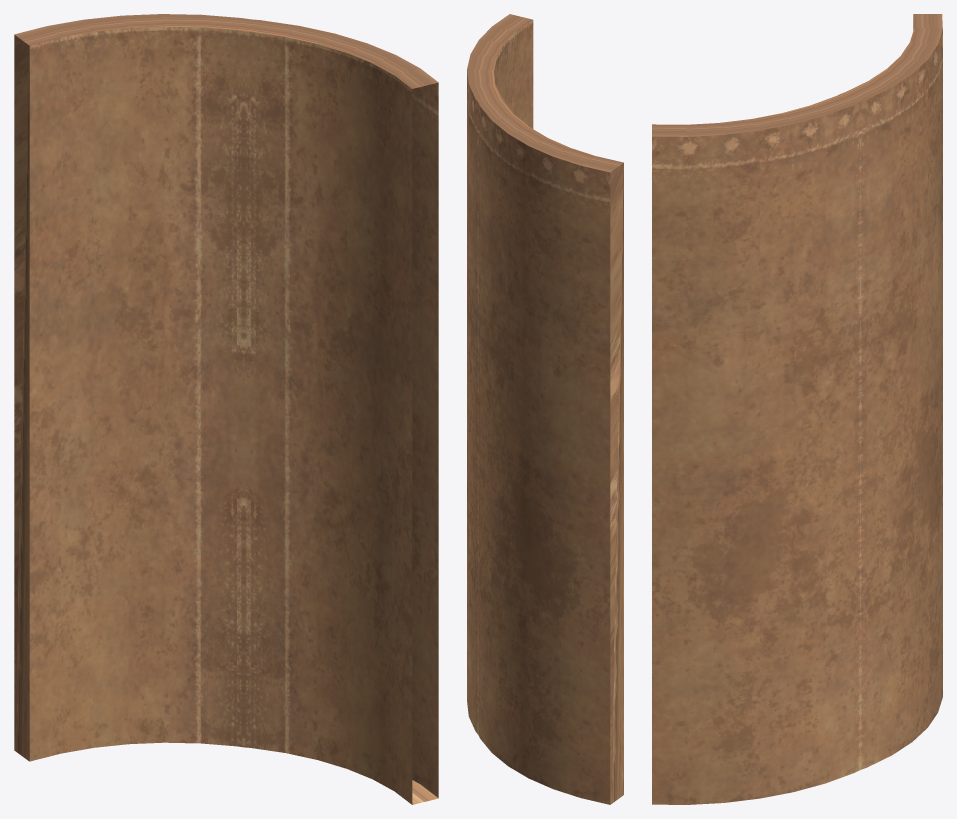
Rendered from Wall_1_F.fbx.
3 views of the same model, side by side, from view 1: azimuth 30°, elevation 25°; view 2: azimuth 150°, elevation 25°; view 3: azimuth 270°, elevation 25° (orthographic). The views are drawn at different scales.
Visible parts, largest first — view 1: Wall_1_F; view 2: Wall_1_F; view 3: Wall_1_F.
Boxes of the visible parts, x1,y1,x2,y2 form: Wall_1_F: [14, 14, 438, 804]; Wall_1_F: [467, 14, 623, 804]; Wall_1_F: [652, 14, 942, 804].
Size of the model in its own units: 1 by 2.53 by 1.
